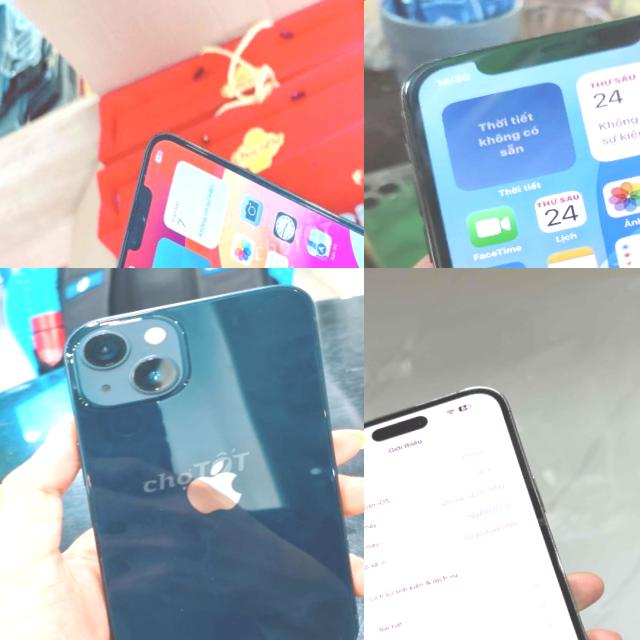gen_11: (402, 16, 640, 268)
gen_12_13: (28, 268, 364, 640), (77, 69, 364, 268)
gen_14: (364, 370, 623, 640)
